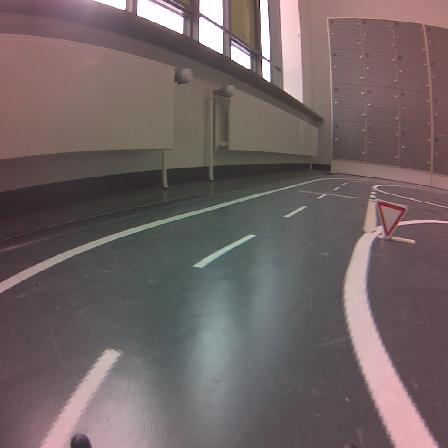GIVE_WAY: (377, 200, 407, 238)
